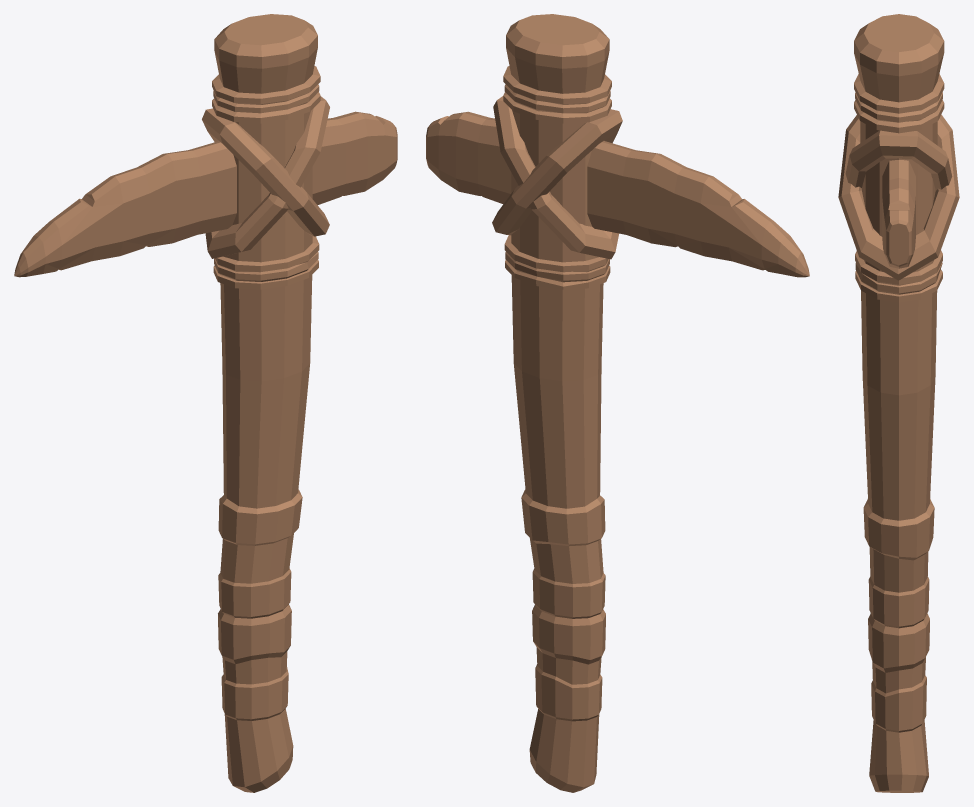
File: Stone Pickaxe.glb
The picture shows the model from 3 angles, left to right: view 1: azimuth 30°, elevation 25°; view 2: azimuth 150°, elevation 25°; view 3: azimuth 270°, elevation 25°; orthographic projection. The views are drawn at different scales.
Parts seen in each view (by area): view 1: Stone Pickaxe; view 2: Stone Pickaxe; view 3: Stone Pickaxe.
Part boxes in pixels (x1,y1,x2,y2): Stone Pickaxe: [14, 14, 397, 792]; Stone Pickaxe: [426, 14, 809, 792]; Stone Pickaxe: [838, 14, 959, 792].
Size of the model in its own units: 64.08 by 122 by 17.41.
